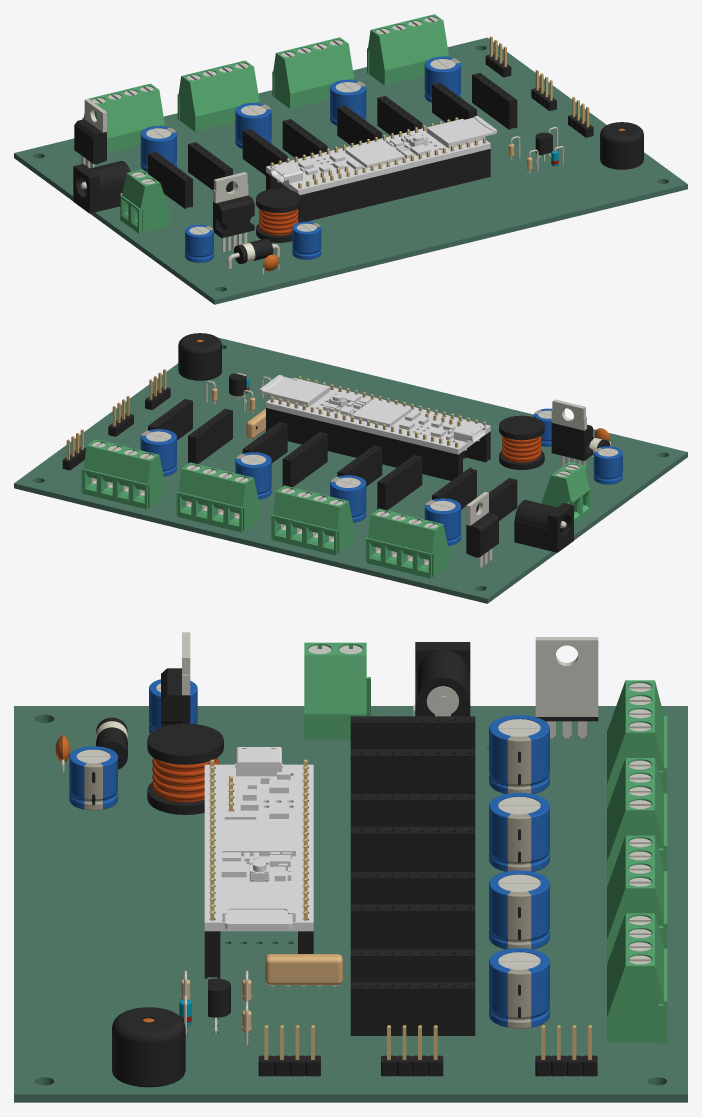
The model's file is monture.glb.
3 renders of one model, top to bottom at view 1: azimuth 30°, elevation 25°; view 2: azimuth 150°, elevation 25°; view 3: azimuth 270°, elevation 25°, orthographic. The views are drawn at different scales.
Visible parts, largest first — view 1: =>[0:1:1:46], =>[0:1:1:13] (×4), =>[0:1:1:15] (×8), =>[0:1:1:25], =>[0:1:1:17], =>[0:1:1:11] (×4), =>[0:1:1:29], =>[0:1:1:45], =>[0:1:1:3], =>[0:1:1:35] (×2), =>[0:1:1:31], =>[0:1:1:19] (×2) (+4 smaller); view 2: =>[0:1:1:46], =>[0:1:1:13] (×4), =>[0:1:1:15] (×8), =>[0:1:1:25], =>[0:1:1:17] (×2), =>[0:1:1:11] (×4), =>[0:1:1:3], =>[0:1:1:31], =>[0:1:1:29], =>[0:1:1:7], =>[0:1:1:45], =>[0:1:1:37] (×3) (+3 smaller); view 3: =>[0:1:1:46], =>[0:1:1:15] (×8), =>[0:1:1:13] (×4), =>[0:1:1:11] (×4), =>[0:1:1:25], =>[0:1:1:45], =>[0:1:1:37] (×3), =>[0:1:1:33], =>[0:1:1:31], =>[0:1:1:7], =>[0:1:1:3], =>[0:1:1:35] (×2) (+6 smaller).
Boxes of the visible parts, x1,y1,x2,y2 form: =>[0:1:1:46]: (14, 37, 687, 304); =>[0:1:1:13] (×4): (82, 14, 448, 153); =>[0:1:1:15] (×8): (148, 73, 517, 208); =>[0:1:1:25]: (266, 116, 496, 194); =>[0:1:1:17]: (298, 149, 490, 222); =>[0:1:1:11] (×4): (140, 56, 460, 171); =>[0:1:1:29]: (213, 172, 254, 251); =>[0:1:1:45]: (120, 169, 169, 233); =>[0:1:1:3]: (73, 161, 130, 213); =>[0:1:1:35] (×2): (185, 221, 321, 262); =>[0:1:1:31]: (256, 188, 301, 242); =>[0:1:1:19] (×2): (270, 117, 485, 213); =>[0:1:1:46]: (14, 337, 687, 603); =>[0:1:1:13] (×4): (81, 439, 448, 578); =>[0:1:1:15] (×8): (148, 399, 517, 520); =>[0:1:1:25]: (260, 375, 490, 454); =>[0:1:1:17] (×2): (266, 408, 490, 480); =>[0:1:1:11] (×4): (140, 429, 460, 545); =>[0:1:1:3]: (514, 500, 573, 552); =>[0:1:1:31]: (499, 415, 544, 469); =>[0:1:1:29]: (551, 399, 592, 469); =>[0:1:1:7]: (178, 333, 221, 380); =>[0:1:1:45]: (541, 461, 590, 524); =>[0:1:1:37] (×3): (62, 369, 170, 470); =>[0:1:1:46]: (14, 706, 687, 1102); =>[0:1:1:15] (×8): (350, 716, 475, 1035); =>[0:1:1:13] (×4): (607, 680, 667, 1044); =>[0:1:1:11] (×4): (489, 715, 549, 1028); =>[0:1:1:25]: (204, 747, 313, 931); =>[0:1:1:45]: (304, 642, 370, 739); =>[0:1:1:37] (×3): (258, 1025, 597, 1076); =>[0:1:1:33]: (535, 637, 598, 738); =>[0:1:1:31]: (147, 723, 223, 814); =>[0:1:1:7]: (112, 1007, 185, 1087); =>[0:1:1:3]: (413, 642, 470, 716); =>[0:1:1:35] (×2): (69, 679, 197, 810).
Size of the model in its own units: 0.1518 by 0.0306 by 0.11.
